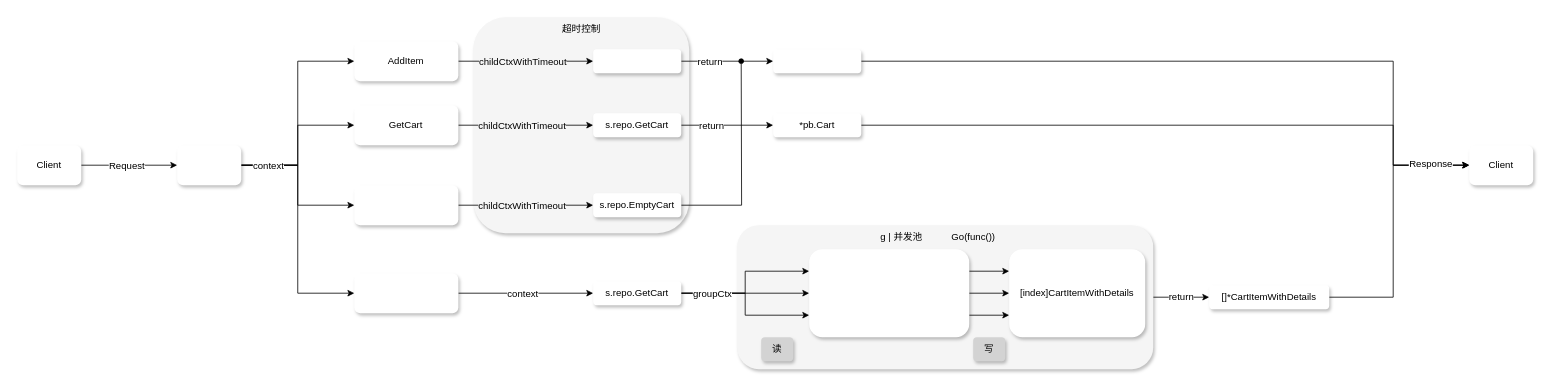
Image size: 1551x388. Some labels were removed from this diagram. Each missing label, with the centre of its shape:
*pb.Empty: (x=818, y=62)
CartService: (x=210, y=166)
EmptyCart: (x=407, y=206)
GetCartWithDetails: (x=407, y=294)
s.productClient.GetProduct: (x=890, y=294)
s.repo.AddItem: (x=638, y=62)
